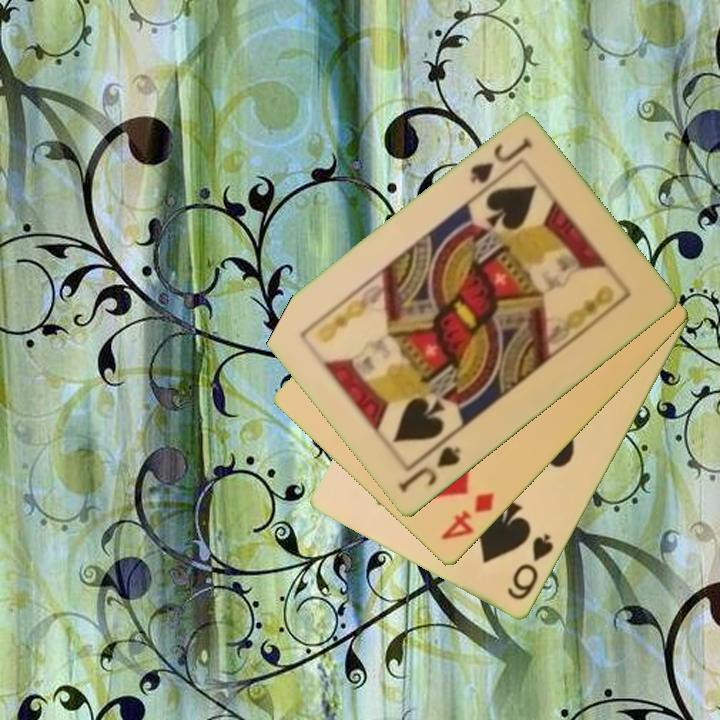4d: (437, 489, 497, 544)
6s: (504, 530, 557, 604)
Js: (394, 443, 464, 497), (466, 134, 536, 188)
